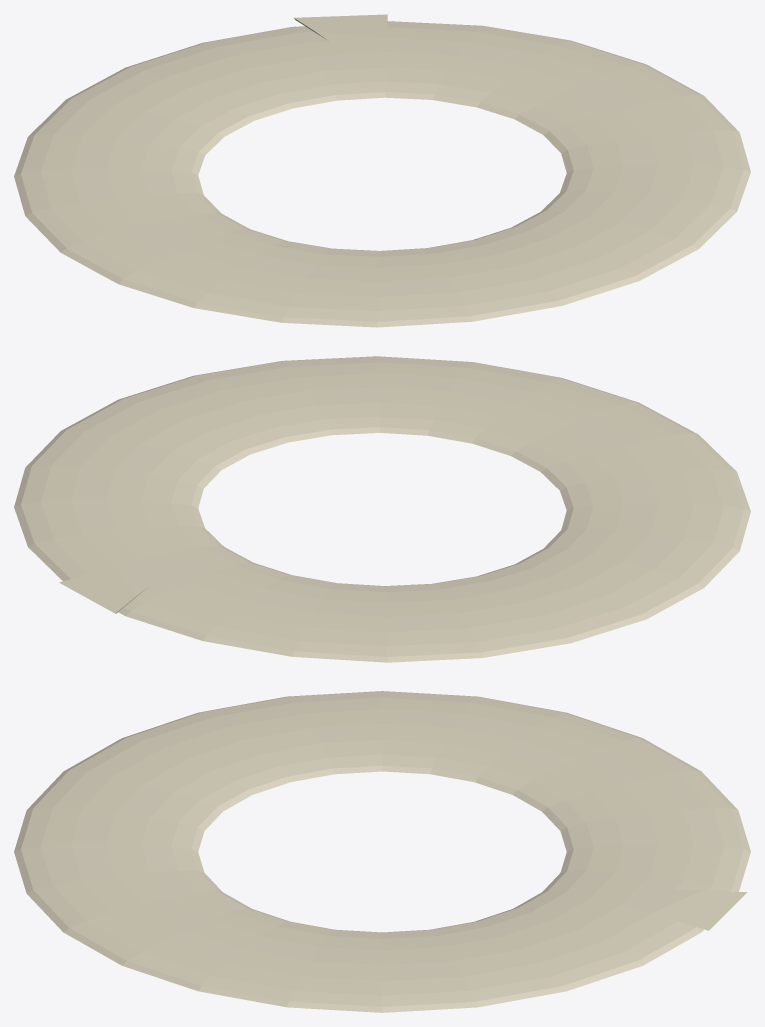
File: Pavement2.glb
3 views of the same model, one above another, from view 1: azimuth 30°, elevation 25°; view 2: azimuth 150°, elevation 25°; view 3: azimuth 270°, elevation 25° (orthographic). The views are drawn at different scales.
Parts seen in each view (by area): view 1: Mesh_Mesh_head_geo.001_lambert2SG.001; view 2: Mesh_Mesh_head_geo.001_lambert2SG.001; view 3: Mesh_Mesh_head_geo.001_lambert2SG.001.
Part boxes in pixels (box(x1,y1,x2,y2)): Mesh_Mesh_head_geo.001_lambert2SG.001: box(14, 14, 750, 327); Mesh_Mesh_head_geo.001_lambert2SG.001: box(14, 356, 750, 662); Mesh_Mesh_head_geo.001_lambert2SG.001: box(14, 691, 750, 1012).
Bounding box in the file's own units: 93 × 2 × 90.
